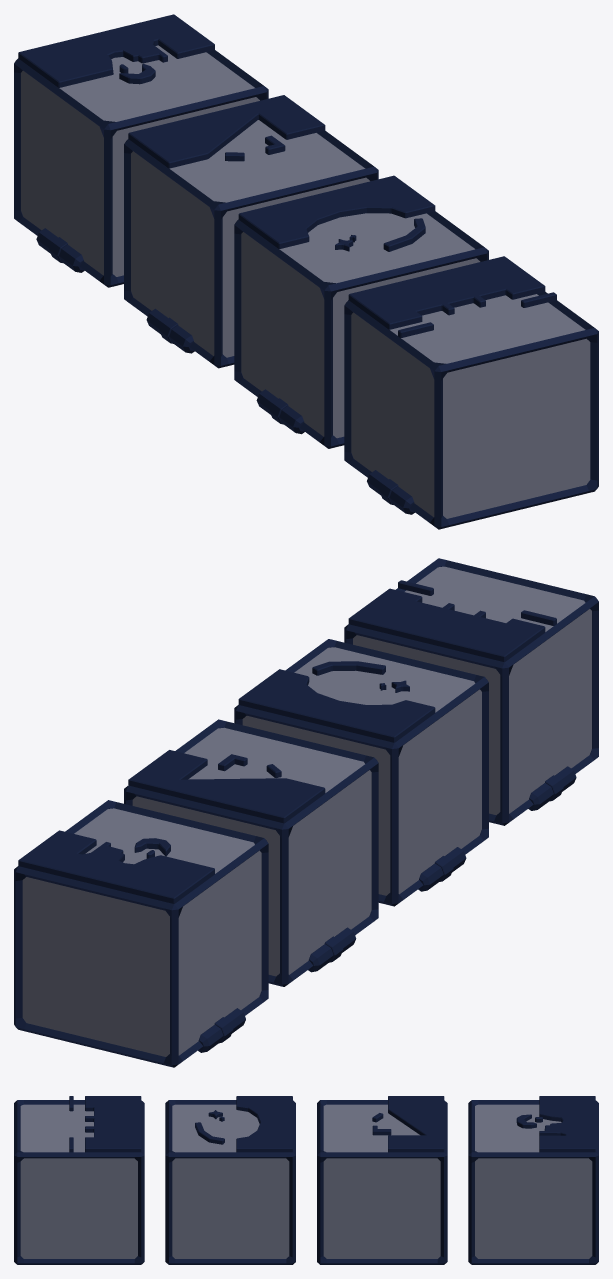
Rendered from LockBox.fbx.
3 renders of one model, top to bottom at view 1: azimuth 30°, elevation 25°; view 2: azimuth 150°, elevation 25°; view 3: azimuth 270°, elevation 25°, orthographic. The views are drawn at different scales.
Visible parts, largest first — view 1: SM_LockPilar_001, SM_LockLabyrinth_001, SM_LockMiror_001, SM_LockSphinx_001; view 2: SM_LockSphinx_001, SM_LockMiror_001, SM_LockLabyrinth_001, SM_LockPilar_001; view 3: SM_LockPilar_001, SM_LockMiror_001, SM_LockLabyrinth_001, SM_LockSphinx_001.
Part boxes in pixels (x1,y1,x2,y2): SM_LockPilar_001: [344, 256, 598, 529]; SM_LockLabyrinth_001: [124, 95, 378, 368]; SM_LockMiror_001: [234, 175, 488, 448]; SM_LockSphinx_001: [14, 14, 268, 287]; SM_LockSphinx_001: [14, 800, 268, 1067]; SM_LockMiror_001: [234, 639, 488, 906]; SM_LockLabyrinth_001: [124, 719, 378, 986]; SM_LockPilar_001: [344, 558, 598, 825]; SM_LockPilar_001: [14, 1096, 144, 1264]; SM_LockMiror_001: [165, 1096, 295, 1264]; SM_LockLabyrinth_001: [317, 1096, 447, 1264]; SM_LockSphinx_001: [468, 1096, 598, 1264].
Size of the model in its own units: 19.94 by 19.69 by 86.23.
